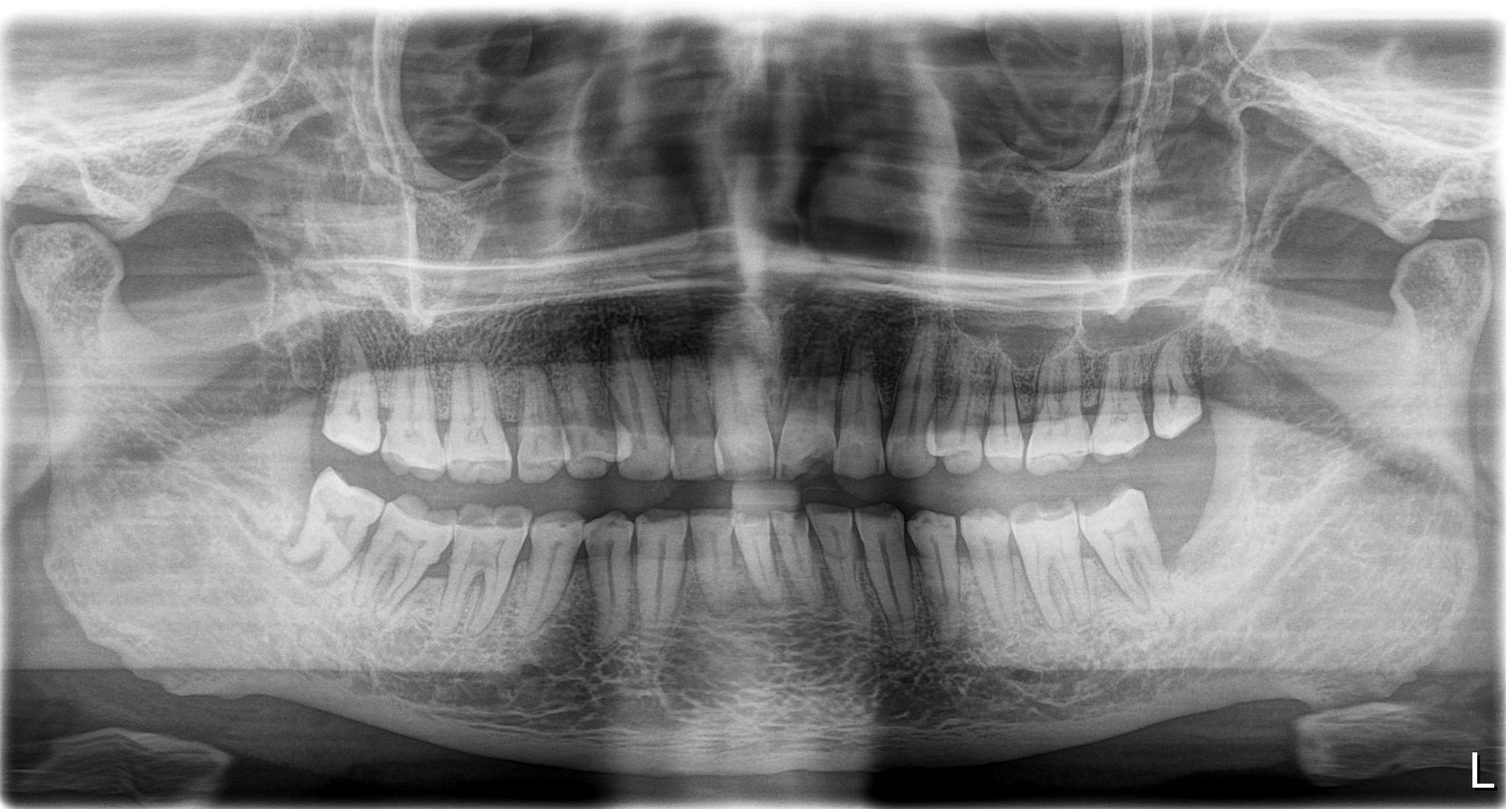Attrition: (1007, 498, 1138, 536), (389, 508, 547, 532)
Dental Caries: (792, 445, 857, 488)
Missing Tooth: (1153, 482, 1223, 575)
